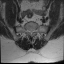CCS_stenosis: (30, 29, 32, 36)
LFS_normal: (33, 28, 35, 33)
LLS_normal: (32, 29, 33, 34)
RFS_stenosis: (27, 27, 29, 33)
RLS_normal: (29, 28, 30, 35)
